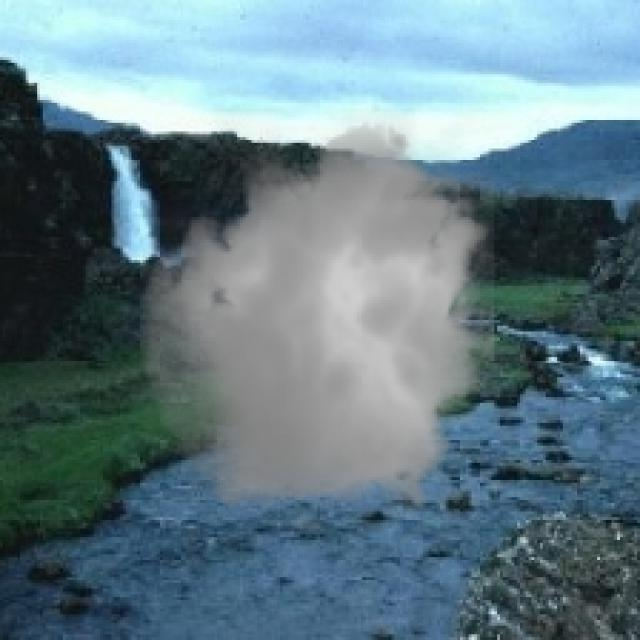Smoke: (128, 109, 512, 528)
